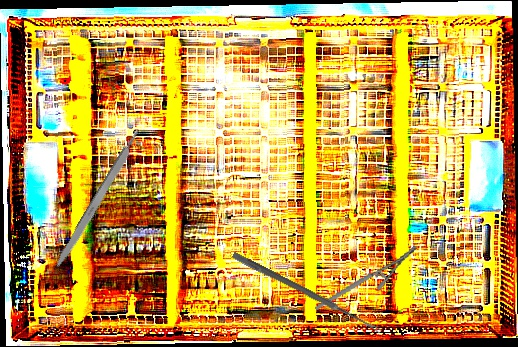Needle Holder: (306, 244, 426, 311)
Scalpel Handle: (51, 127, 145, 274)
Surgical Spoon: (231, 251, 383, 335)
